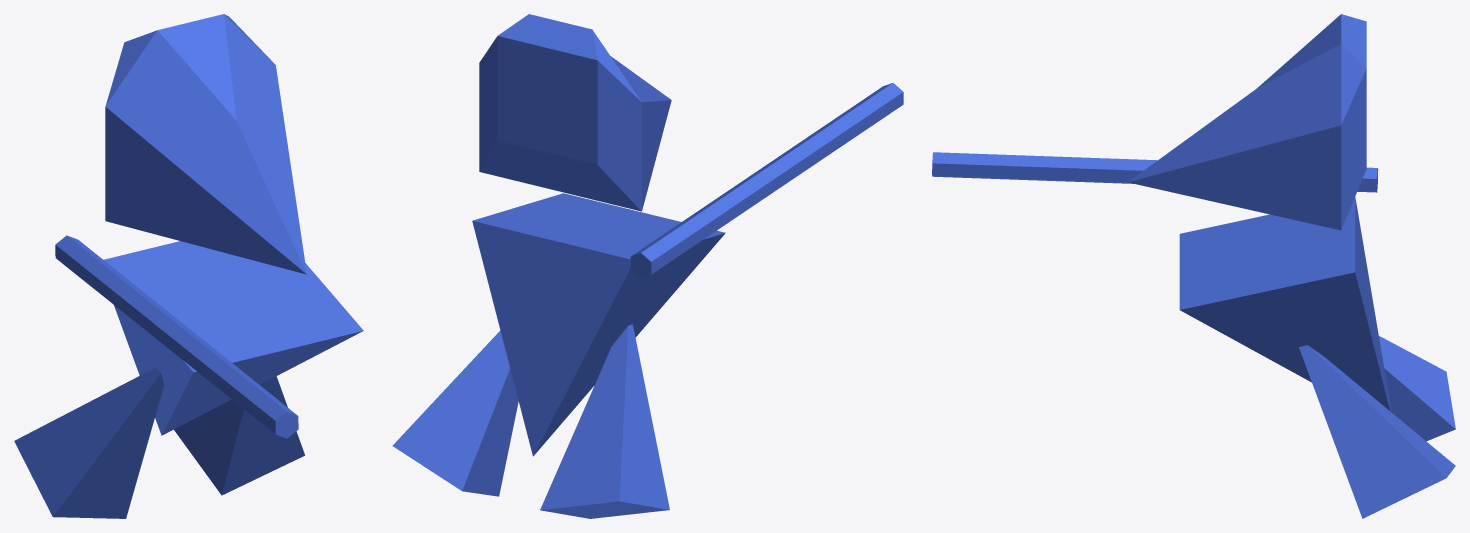
3 renders of one model, left to right at view 1: azimuth 30°, elevation 25°; view 2: azimuth 150°, elevation 25°; view 3: azimuth 270°, elevation 25°, orthographic. The views are drawn at different scales.
Parts seen in each view (by area): view 1: M2; view 2: M2; view 3: M2.
Part boxes in pixels (x1,y1,x2,y2): M2: (14,14,363,518); M2: (392,14,903,518); M2: (932,14,1455,518).
Size of the model in its own units: 1.25 by 2.26 by 2.35.
